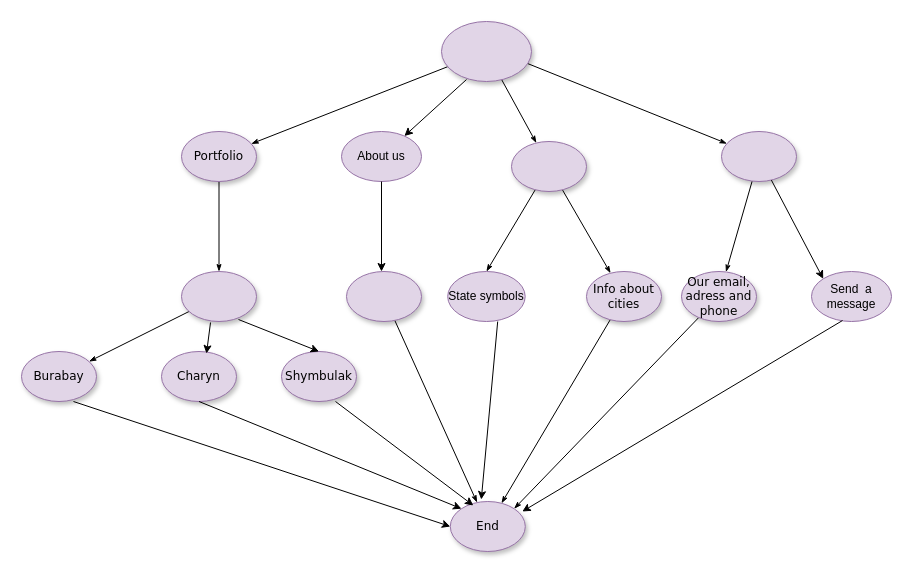
Some shapes in this 909 by 576 pixel diagram are drawn without their labels. Each missing label, with the centre of its shape:
"Contact us" belongs at point (759, 157).
"Main page" belongs at point (487, 52).
"our appeal to users" belongs at point (385, 297).
"Popular places" belongs at point (219, 297).
"Services" belongs at point (549, 167).
